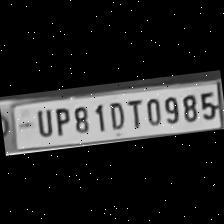0: (140, 92, 162, 125)
1: (88, 99, 108, 133)
5: (196, 87, 220, 120)
8: (176, 89, 200, 122), (68, 100, 91, 134)
9: (159, 91, 181, 125)
D: (102, 96, 126, 129)
P: (48, 102, 71, 135)
T: (122, 94, 144, 128)
U: (29, 104, 52, 138)
